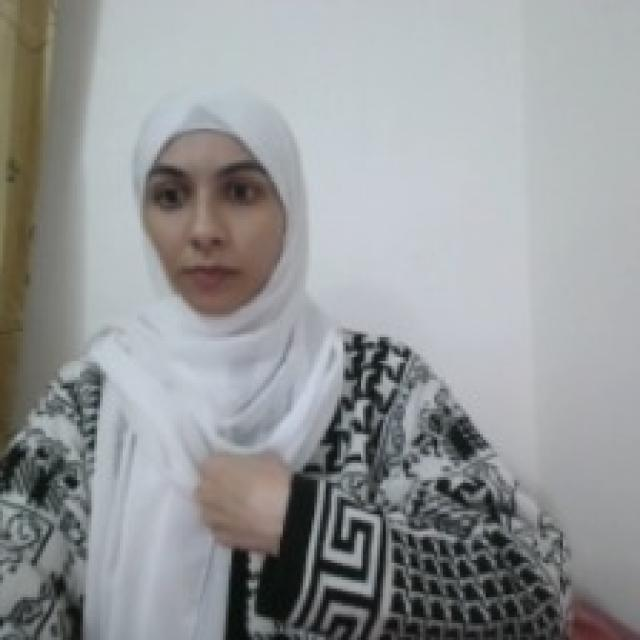me: (192, 444, 298, 556)
